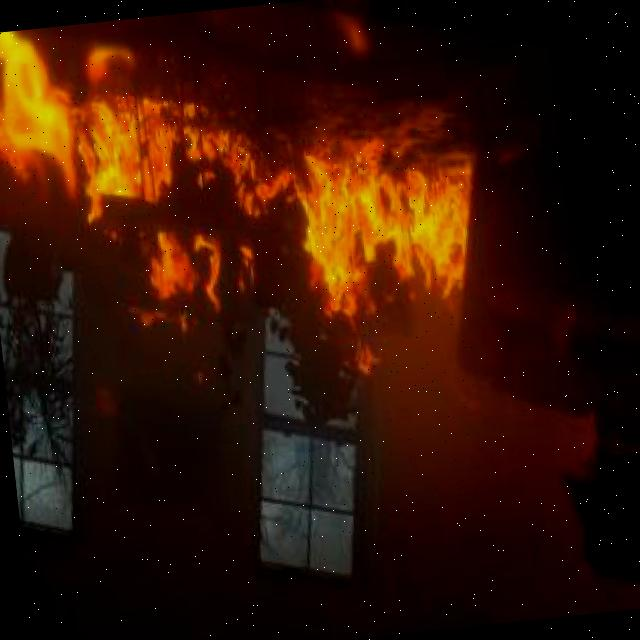fire: (0, 6, 281, 359), (282, 125, 475, 348)
